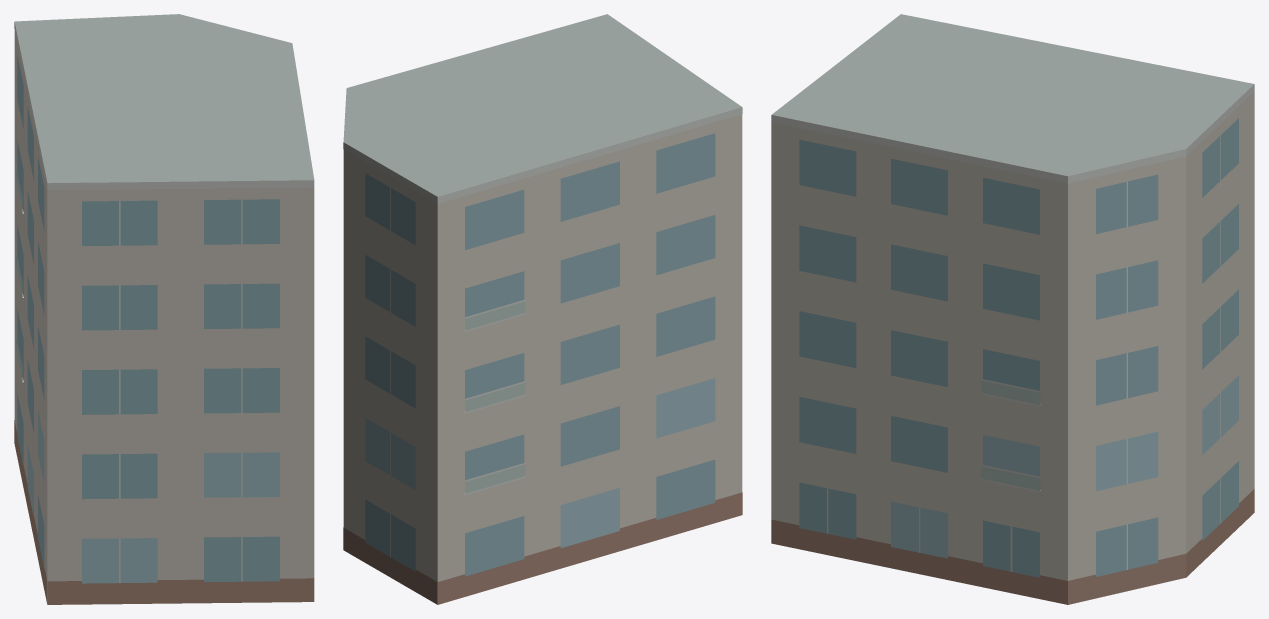
File: survey-upis-32489787.glb
3 views of the same model, side by side, from view 1: azimuth 30°, elevation 25°; view 2: azimuth 150°, elevation 25°; view 3: azimuth 270°, elevation 25° (orthographic). The views are drawn at different scales.
Visible parts, largest first — view 1: survey-upis-32489787.tmp; view 2: survey-upis-32489787.tmp; view 3: survey-upis-32489787.tmp.
Part boxes in pixels (x1,y1,x2,y2): survey-upis-32489787.tmp: (14, 14, 314, 604); survey-upis-32489787.tmp: (343, 14, 742, 604); survey-upis-32489787.tmp: (771, 14, 1254, 604).
Bounding box in the file's own units: 11.62 × 14.3 × 14.62.
